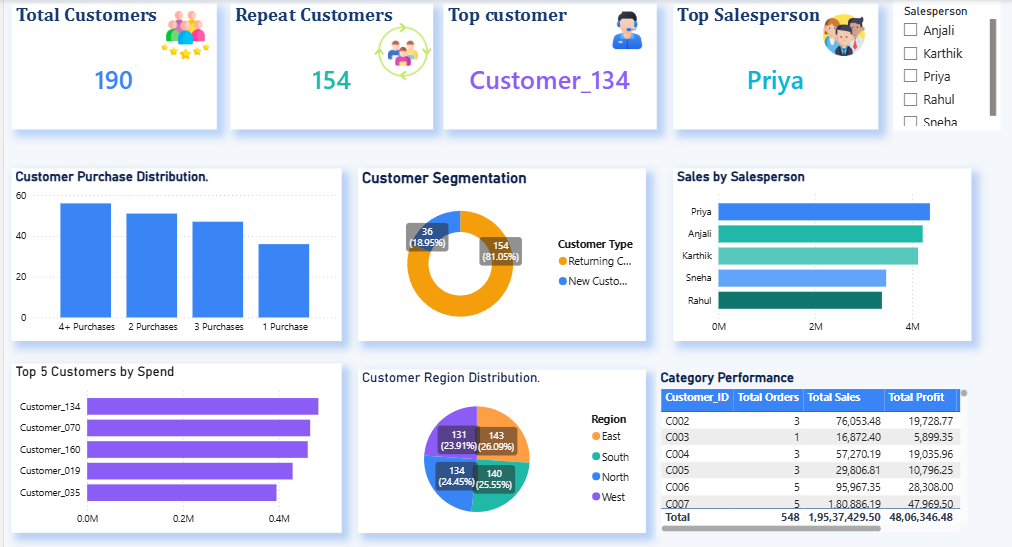

The page's visual inventory and layout, read from the dashboard file:
{"tool":"powerbi","page":{"name":"Customer & Salesperson Analysis","canvas":[1280,720],"ordinal":2},"visuals":[{"type":"cardVisual","title":"Total Customers","fields":{"Data":["DateTable.Total Customers"]},"box":[9.4,5.7,258.9,158.7],"z":0},{"type":"cardVisual","title":"Repeat Customers","fields":{"Data":["DateTable.Repeat Customers"]},"box":[285.4,5.7,255.1,158.7],"z":1000},{"type":"cardVisual","title":"Top customer","fields":{"Data":["DateTable.Top Customer"]},"box":[553.7,5.7,268.3,158.7],"z":2000},{"type":"cardVisual","title":"Top Salesperson","fields":{"Data":["DateTable.Top Salesperson"]},"box":[842.8,5.7,258.9,158.7],"z":3000},{"type":"clusteredColumnChart","title":"Customer Purchase Distribution.","fields":{"Category":["Customer Purchase Count.Purchase Group"],"Y":["Customer Purchase Count.Customer Count"]},"box":[9.4,213.5,415.8,217.3],"z":4000},{"type":"donutChart","title":"Customer Segmentation","fields":{"Category":["Customer Purchase Count.Customer Type"],"Y":["CountNonNull(Customer Purchase Count.Customer_ID)"]},"box":[446,213.5,362.8,217.3],"z":5000},{"type":"clusteredBarChart","title":"Sales by Salesperson","fields":{"Category":["Sales_Data.Salesperson"],"Y":["Sales_Data.Total Sales"]},"box":[842.8,213.5,376.1,217.3],"z":6000},{"type":"clusteredBarChart","title":"Top 5 Customers by Spend","fields":{"Category":["Sales_Data.Customer_Name"],"Y":["Sales_Data.Total Sales"]},"box":[9.4,459.2,415.8,213.5],"z":7000},{"type":"pieChart","title":"Customer Region Distribution.","fields":{"Category":["Sales_Data.Region"],"Y":["CountNonNull(Sales_Data.Customer_ID)"]},"box":[446,466.8,362.8,206],"z":8000},{"type":"tableEx","title":"Category Performance","fields":{"Values":["Sales_Data.Customer_ID","Sales_Data.Total Orders","Sales_Data.Total Sales","Sales_Data.Total Profit","Sales_Data.Average Order Value"]},"box":[822.1,466.8,396.9,209.8],"z":9001},{"type":"slicer","fields":{"Values":["Sales_Data.Salesperson"]},"box":[1120.6,1.9,134.2,162.5],"z":9002},{"type":"image","box":[189,15.1,79.4,60.5],"z":9003},{"type":"image","box":[761.6,15.1,47.2,49.1],"z":9004},{"type":"image","box":[451.7,30.2,102,71.8],"z":9005},{"type":"image","box":[1031.8,15.1,52.9,60.5],"z":9006}]}

Visuals, with their boxes on the page's 1280x720 design canvas (x1, y1, x2, y2). These are canvas units, not pixel positions in the 1012x547 screenshot, which may show the page scaled, cropped or inside an application window:
"Total Customers" cardVisual: box(9, 6, 268, 164)
"Repeat Customers" cardVisual: box(285, 6, 540, 164)
"Top customer" cardVisual: box(554, 6, 822, 164)
"Top Salesperson" cardVisual: box(843, 6, 1102, 164)
"Customer Purchase Distribution." clusteredColumnChart: box(9, 214, 425, 431)
"Customer Segmentation" donutChart: box(446, 214, 809, 431)
"Sales by Salesperson" clusteredBarChart: box(843, 214, 1219, 431)
"Top 5 Customers by Spend" clusteredBarChart: box(9, 459, 425, 673)
"Customer Region Distribution." pieChart: box(446, 467, 809, 673)
"Category Performance" tableEx: box(822, 467, 1219, 677)
slicer - Sales_Data.Salesperson: box(1121, 2, 1255, 164)
image: box(189, 15, 268, 76)
image: box(762, 15, 809, 64)
image: box(452, 30, 554, 102)
image: box(1032, 15, 1085, 76)
